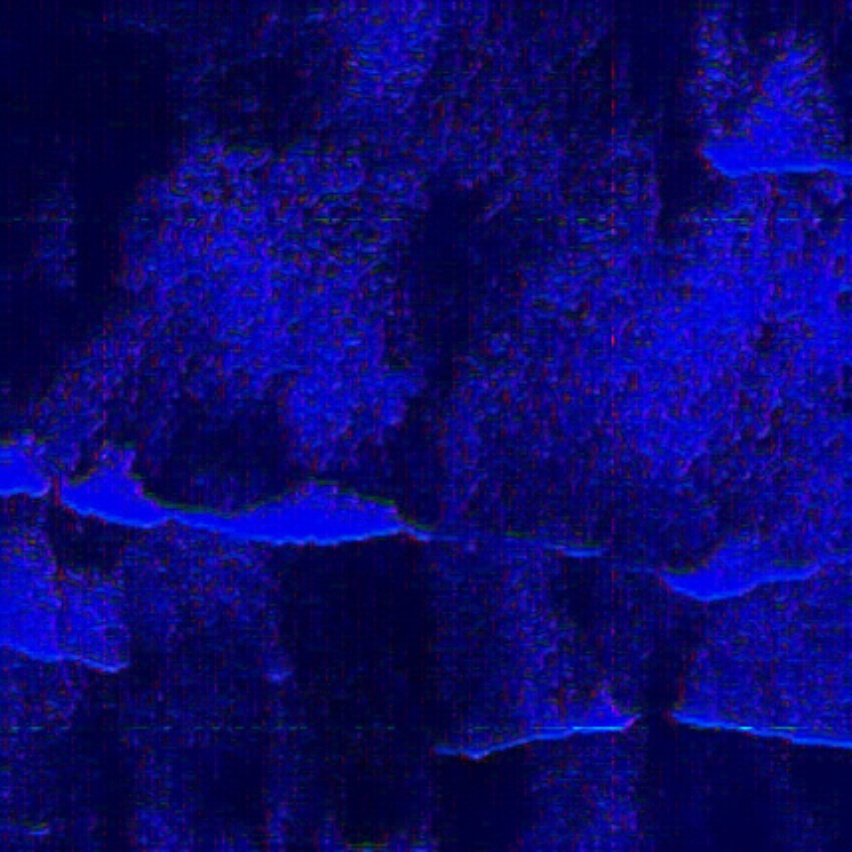rip_current: (318, 162, 567, 750)
